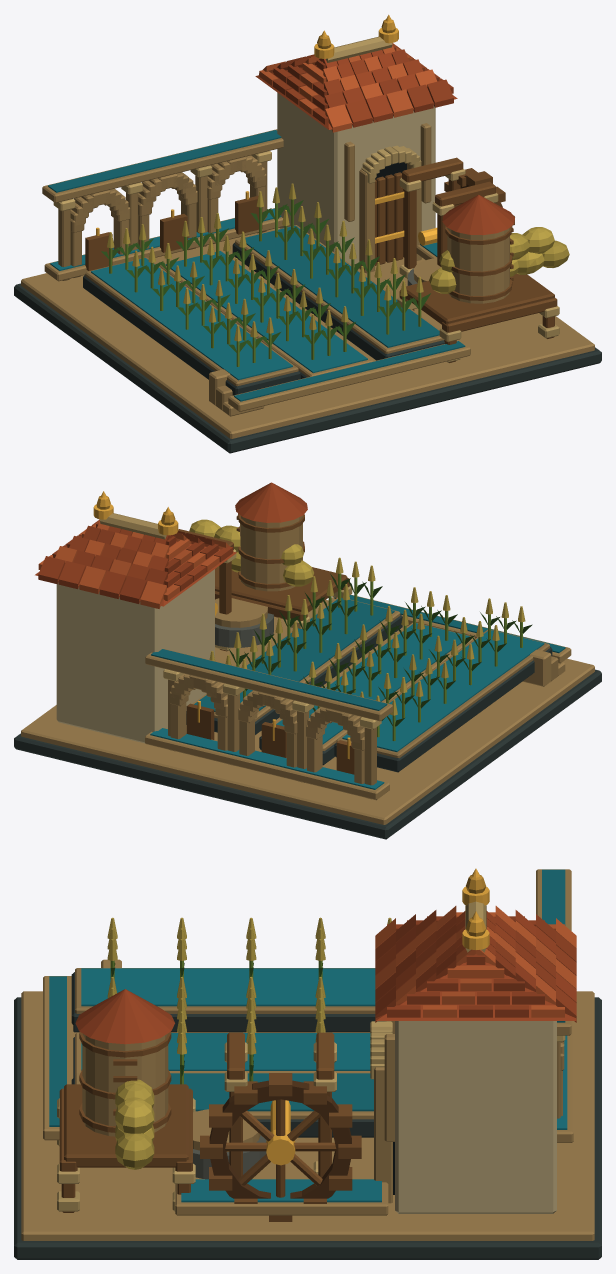
The picture shows the model from 3 angles, top to bottom: view 1: azimuth 30°, elevation 25°; view 2: azimuth 150°, elevation 25°; view 3: azimuth 270°, elevation 25°; orthographic projection. The views are drawn at different scales.
Parts seen in each view (by area): view 1: farm_10_structure, farm_10_metal; view 2: farm_10_structure, farm_10_metal; view 3: farm_10_structure, farm_10_metal.
Part boxes in pixels (left/top/right/bottom): farm_10_structure: left=14, top=19, right=601, bottom=453; farm_10_metal: left=96, top=14, right=437, bottom=245; farm_10_structure: left=14, top=482, right=601, bottom=839; farm_10_metal: left=93, top=491, right=350, bottom=759; farm_10_structure: left=14, top=869, right=601, bottom=1259; farm_10_metal: left=266, top=868, right=489, bottom=1165.
Bounding box in the file's own units: 5.6 × 3.29 × 5.46.
